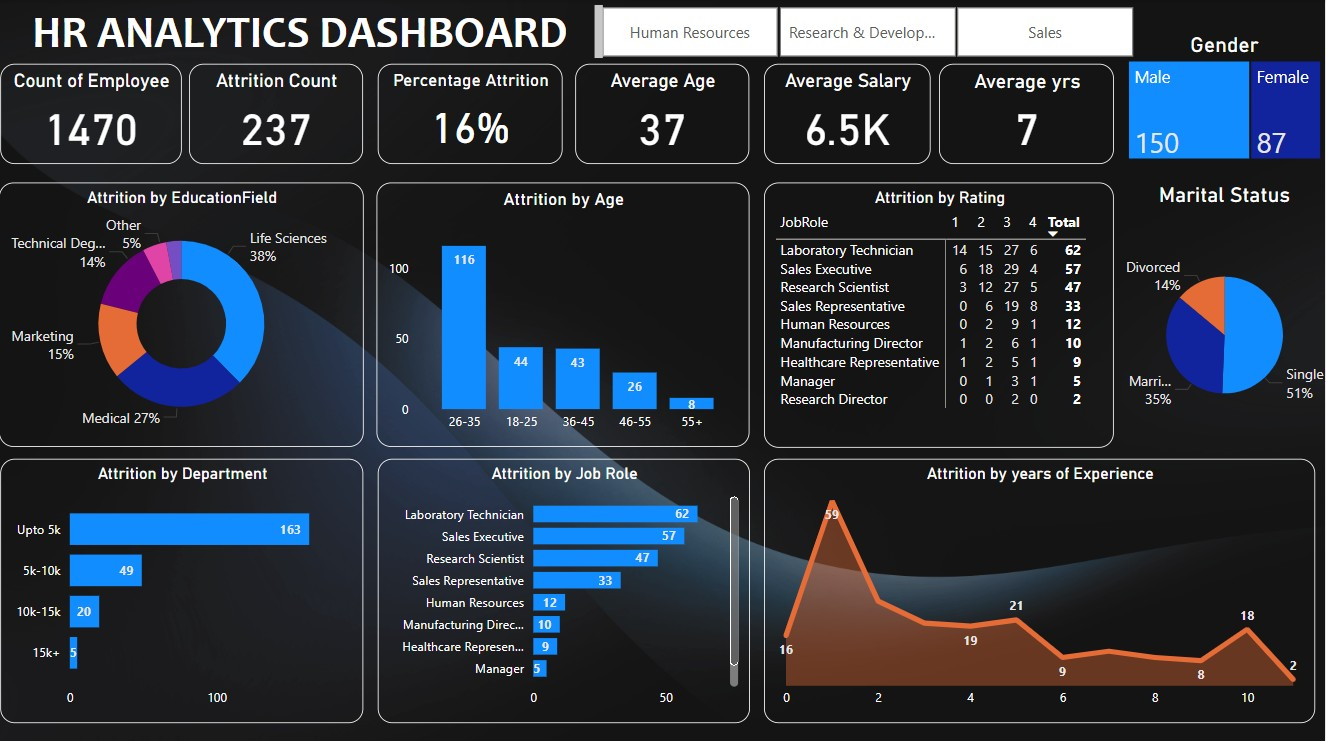

This screenshot's page, from the dashboard's own definition file:
{"tool":"powerbi","page":{"name":"Page 1","canvas":[1280,720],"ordinal":0},"visuals":[{"type":"card","title":"Count of Employee","fields":{"Values":["CountNonNull(HR_Analytics.EmpID)"]},"box":[1.2,61.5,174.9,96.5],"z":0},{"type":"card","title":"Attrition Count","fields":{"Values":["Sum(HR_Analytics.Attrition Count)"]},"box":[183.5,61,167.7,96.5],"z":1000},{"type":"card","title":"Percentage Attrition","fields":{"Values":["HR_Analytics.Attrition Rate"]},"box":[365.6,61.5,178.6,96.5],"z":2000},{"type":"card","title":"Average Age","fields":{"Values":["Avg(HR_Analytics.Age)"]},"box":[556.2,61,167.7,96.5],"z":3000},{"type":"card","title":"Average Salary","fields":{"Values":["Avg(HR_Analytics.MonthlyIncome)"]},"box":[738.3,61.5,160.5,96.5],"z":4000},{"type":"card","title":"Average yrs","fields":{"Values":["Avg(HR_Analytics.YearsAtCompany)"]},"box":[907.2,61.5,168.9,96.5],"z":5000},{"type":"donutChart","title":"Attrition by EducationField","fields":{"Category":["HR_Analytics.EducationField"],"Y":["Sum(HR_Analytics.Attrition Count)"]},"box":[0,176.4,351.6,254.8],"z":6000},{"type":"columnChart","title":"Attrition by Age","fields":{"Category":["HR_Analytics.AgeGroup"],"Y":["Sum(HR_Analytics.Attrition Count)"]},"box":[363.9,176.4,360.2,254.8],"z":7000},{"type":"barChart","title":"Attrition by Department","fields":{"Category":["HR_Analytics.SalarySlab"],"Y":["Sum(HR_Analytics.Attrition Count)"]},"box":[1.3,442.8,350.4,254.8],"z":8000},{"type":"barChart","title":"Attrition by Job Role","fields":{"Category":["HR_Analytics.JobRole"],"Y":["Sum(HR_Analytics.Attrition Count)"]},"box":[365.1,442.3,359,254.8],"z":9000},{"type":"treemap","title":"Gender","fields":{"Group":["HR_Analytics.Gender"],"Values":["Sum(HR_Analytics.Attrition Count)"]},"box":[1085.8,31.4,194.2,126.7],"z":10000},{"type":"areaChart","title":"Attrition by years of Experience","fields":{"Category":["HR_Analytics.YearsAtCompany"],"Y":["Sum(HR_Analytics.Attrition Count)"]},"box":[738.7,442.3,531.7,254.8],"z":11000},{"type":"pivotTable","title":"Attrition by Rating","fields":{"Values":["Sum(HR_Analytics.Attrition Count)"],"Rows":["HR_Analytics.JobRole"],"Columns":["HR_Analytics.WorkLifeBalance"]},"box":[738.3,176.1,337.8,255.8],"z":12000},{"type":"pieChart","title":"Marital Status","fields":{"Y":["Sum(HR_Analytics.Attrition Count)"],"Category":["HR_Analytics.MaritalStatus"]},"box":[1085.8,176.1,194.2,266.6],"z":13000},{"type":"slicer","fields":{"Values":["HR_Analytics.Department"]},"box":[556.2,0,562.2,61.5],"z":14000},{"type":"textbox","box":[1.2,0,555,61.5],"z":15000}]}

Visuals, with their boxes in screenshot pixels (x1, y1, x2, y2), scaled from the page's 1280x720 canvas onto the 1326x741 screenshot:
"Count of Employee" card: [1, 63, 182, 163]
"Attrition Count" card: [190, 63, 364, 162]
"Percentage Attrition" card: [379, 63, 564, 163]
"Average Age" card: [576, 63, 750, 162]
"Average Salary" card: [765, 63, 931, 163]
"Average yrs" card: [940, 63, 1115, 163]
"Attrition by EducationField" donutChart: [0, 182, 364, 444]
"Attrition by Age" columnChart: [377, 182, 750, 444]
"Attrition by Department" barChart: [1, 456, 364, 718]
"Attrition by Job Role" barChart: [378, 455, 750, 717]
"Gender" treemap: [1125, 32, 1325, 163]
"Attrition by years of Experience" areaChart: [765, 455, 1316, 717]
"Attrition by Rating" pivotTable: [765, 181, 1115, 444]
"Marital Status" pieChart: [1125, 181, 1325, 456]
slicer - HR_Analytics.Department: [576, 0, 1159, 63]
textbox: [1, 0, 576, 63]
